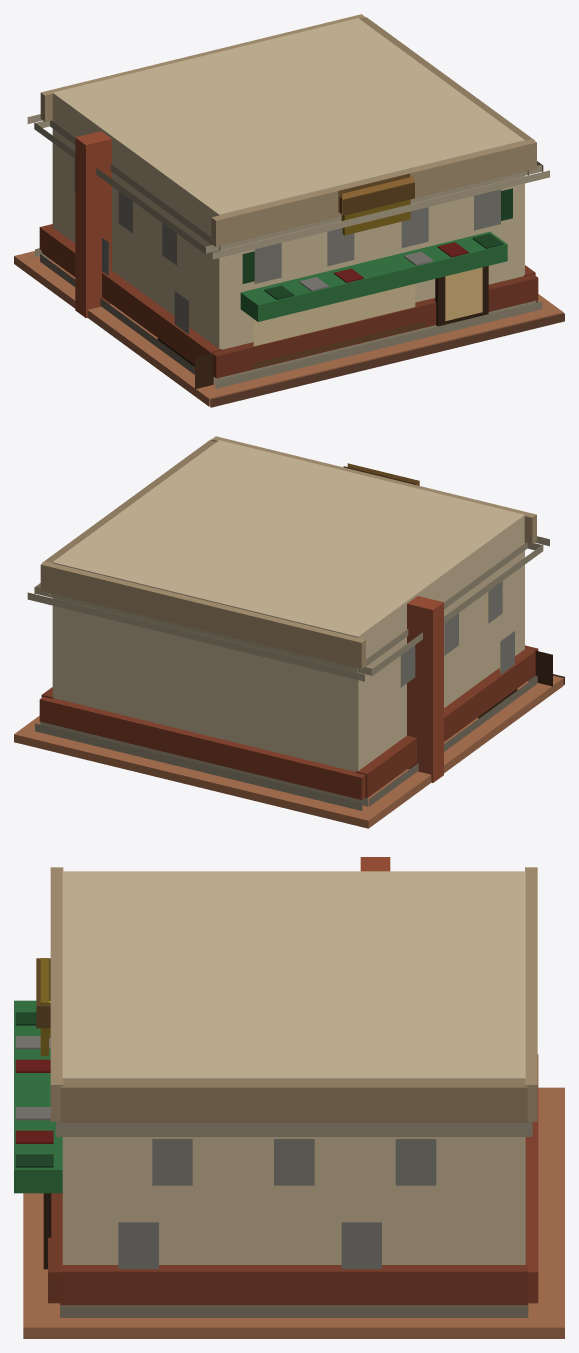
The model's file is PizzaRatSil.fbx.
The picture shows the model from 3 angles, top to bottom: view 1: azimuth 30°, elevation 25°; view 2: azimuth 150°, elevation 25°; view 3: azimuth 270°, elevation 25°; orthographic projection. The views are drawn at different scales.
Parts seen in each view (by area): view 1: PZ_S_All; view 2: PZ_S_All; view 3: PZ_S_All.
Boxes of the visible parts, <box> form: PZ_S_All: <box>14,14,564,407</box>; PZ_S_All: <box>14,436,564,828</box>; PZ_S_All: <box>14,857,564,1338</box>.
Bounding box in the file's own units: 42.24 × 19.9 × 40.74.
